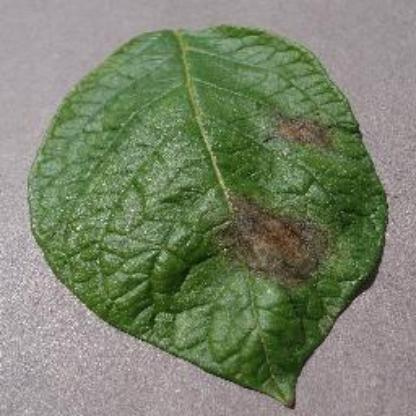Late-Blight: (22, 19, 396, 403)
